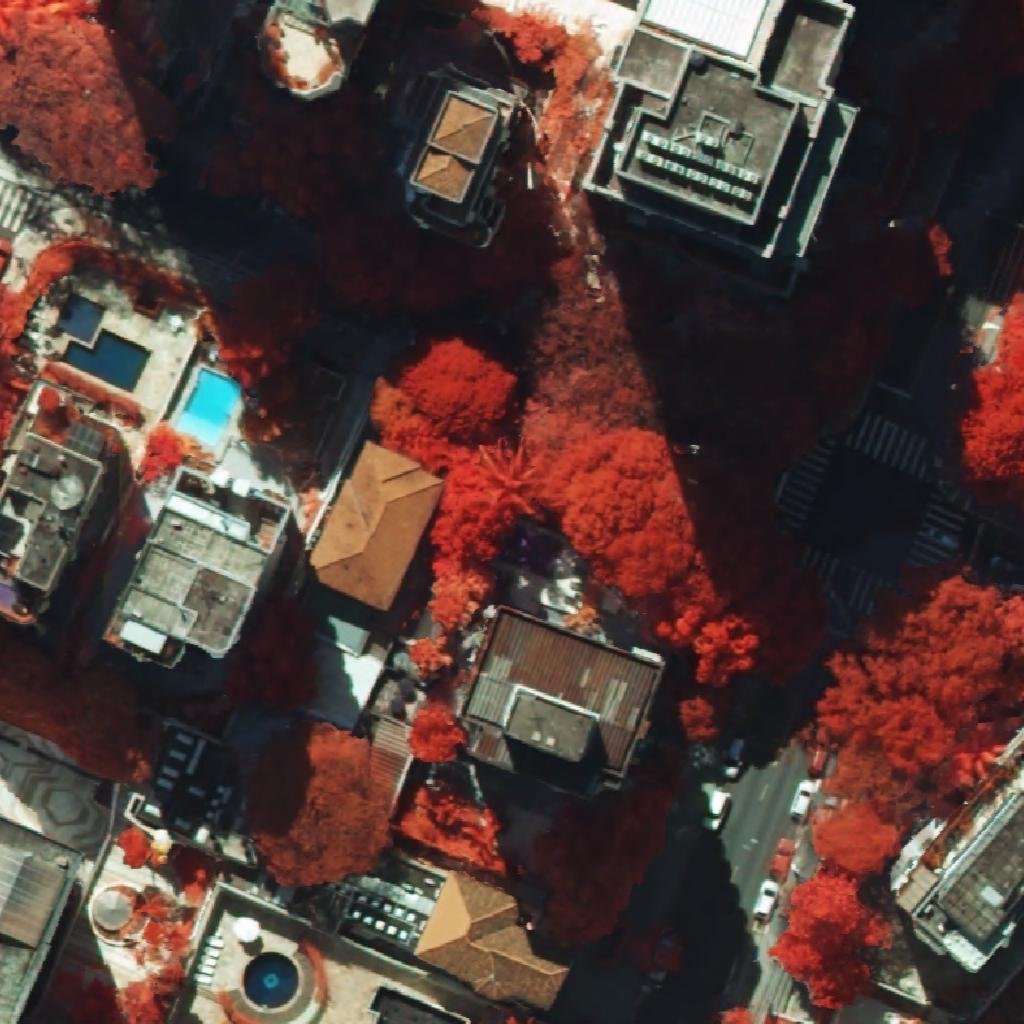pool: (61, 329, 151, 393), (176, 369, 241, 444), (244, 951, 299, 1008), (56, 293, 106, 342)
